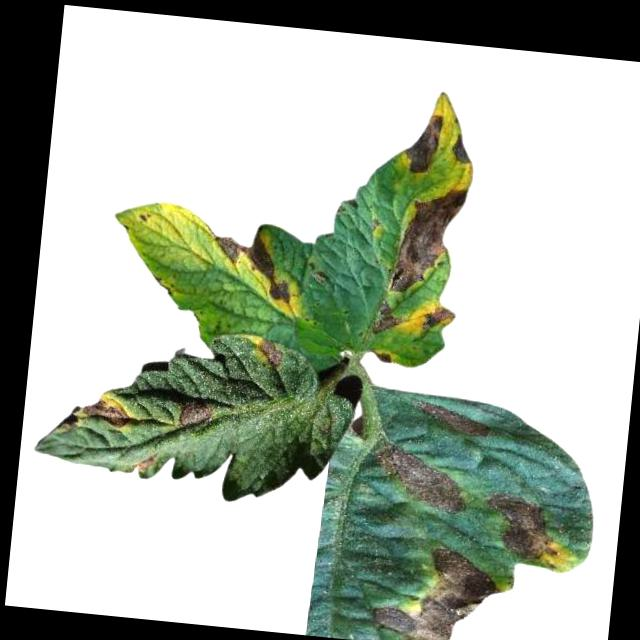Early_blight: (370, 543, 506, 640), (389, 184, 472, 300), (371, 443, 474, 516), (209, 226, 298, 306), (481, 491, 559, 567), (412, 399, 495, 442), (401, 112, 444, 179), (80, 393, 135, 434), (176, 398, 216, 431), (254, 338, 288, 372), (371, 301, 402, 337), (424, 306, 456, 334), (449, 132, 475, 164), (135, 454, 158, 475), (375, 350, 392, 367)
